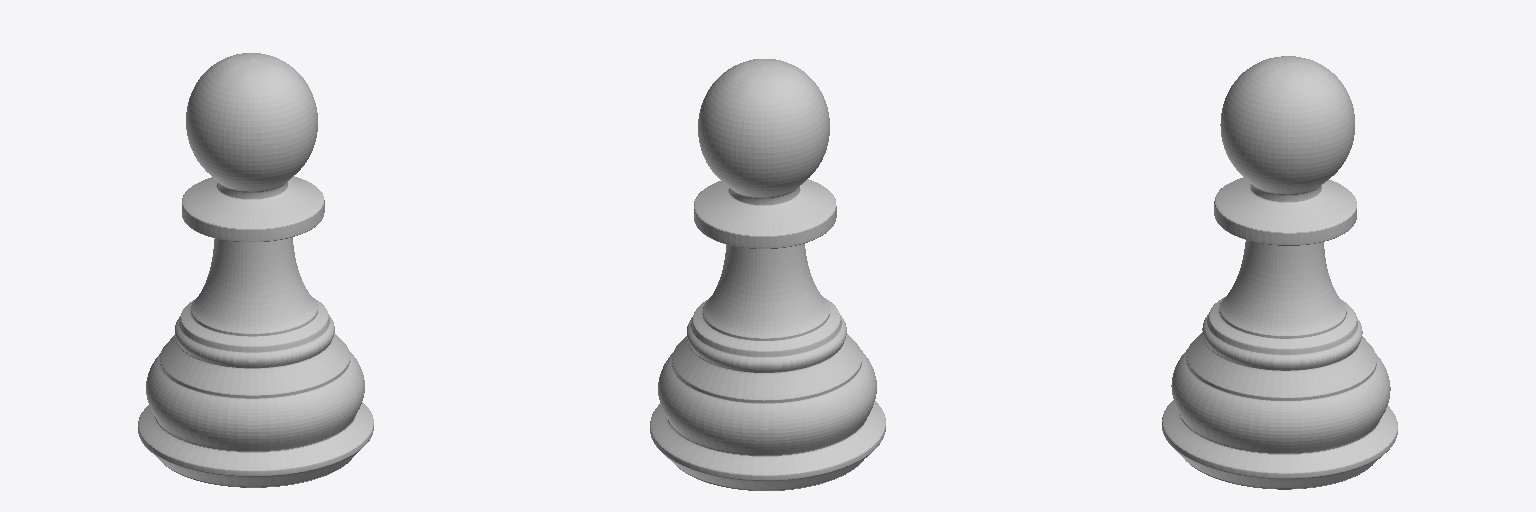
Rendered from pawn.obj.
3 renders of one model, left to right at view 1: azimuth 30°, elevation 25°; view 2: azimuth 150°, elevation 25°; view 3: azimuth 270°, elevation 25°, orthographic.
Visible parts, largest first — view 1: pawn; view 2: pawn; view 3: pawn.
Part boxes in pixels (left/top/right/bottom): pawn: left=138, top=53, right=373, bottom=487; pawn: left=650, top=59, right=885, bottom=490; pawn: left=1162, top=56, right=1397, bottom=489.
Bounding box in the file's own units: 4.56 × 8.22 × 4.55.